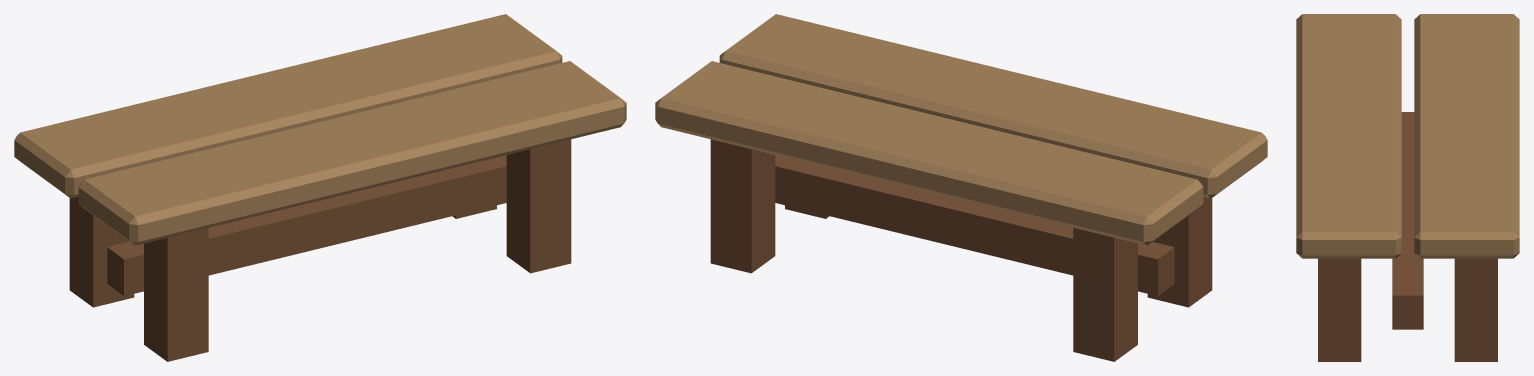
Rendered from Banco_Madera.fbx.
3 views of the same model, side by side, from view 1: azimuth 30°, elevation 25°; view 2: azimuth 150°, elevation 25°; view 3: azimuth 270°, elevation 25° (orthographic). The views are drawn at different scales.
Visible parts, largest first — view 1: Banco_Madera; view 2: Banco_Madera; view 3: Banco_Madera.
Boxes of the visible parts, x1,y1,x2,y2 form: Banco_Madera: [14, 14, 626, 361]; Banco_Madera: [655, 14, 1267, 361]; Banco_Madera: [1296, 14, 1519, 361].
Bounding box in the file's own units: 1.7 × 0.5275 × 0.72.
